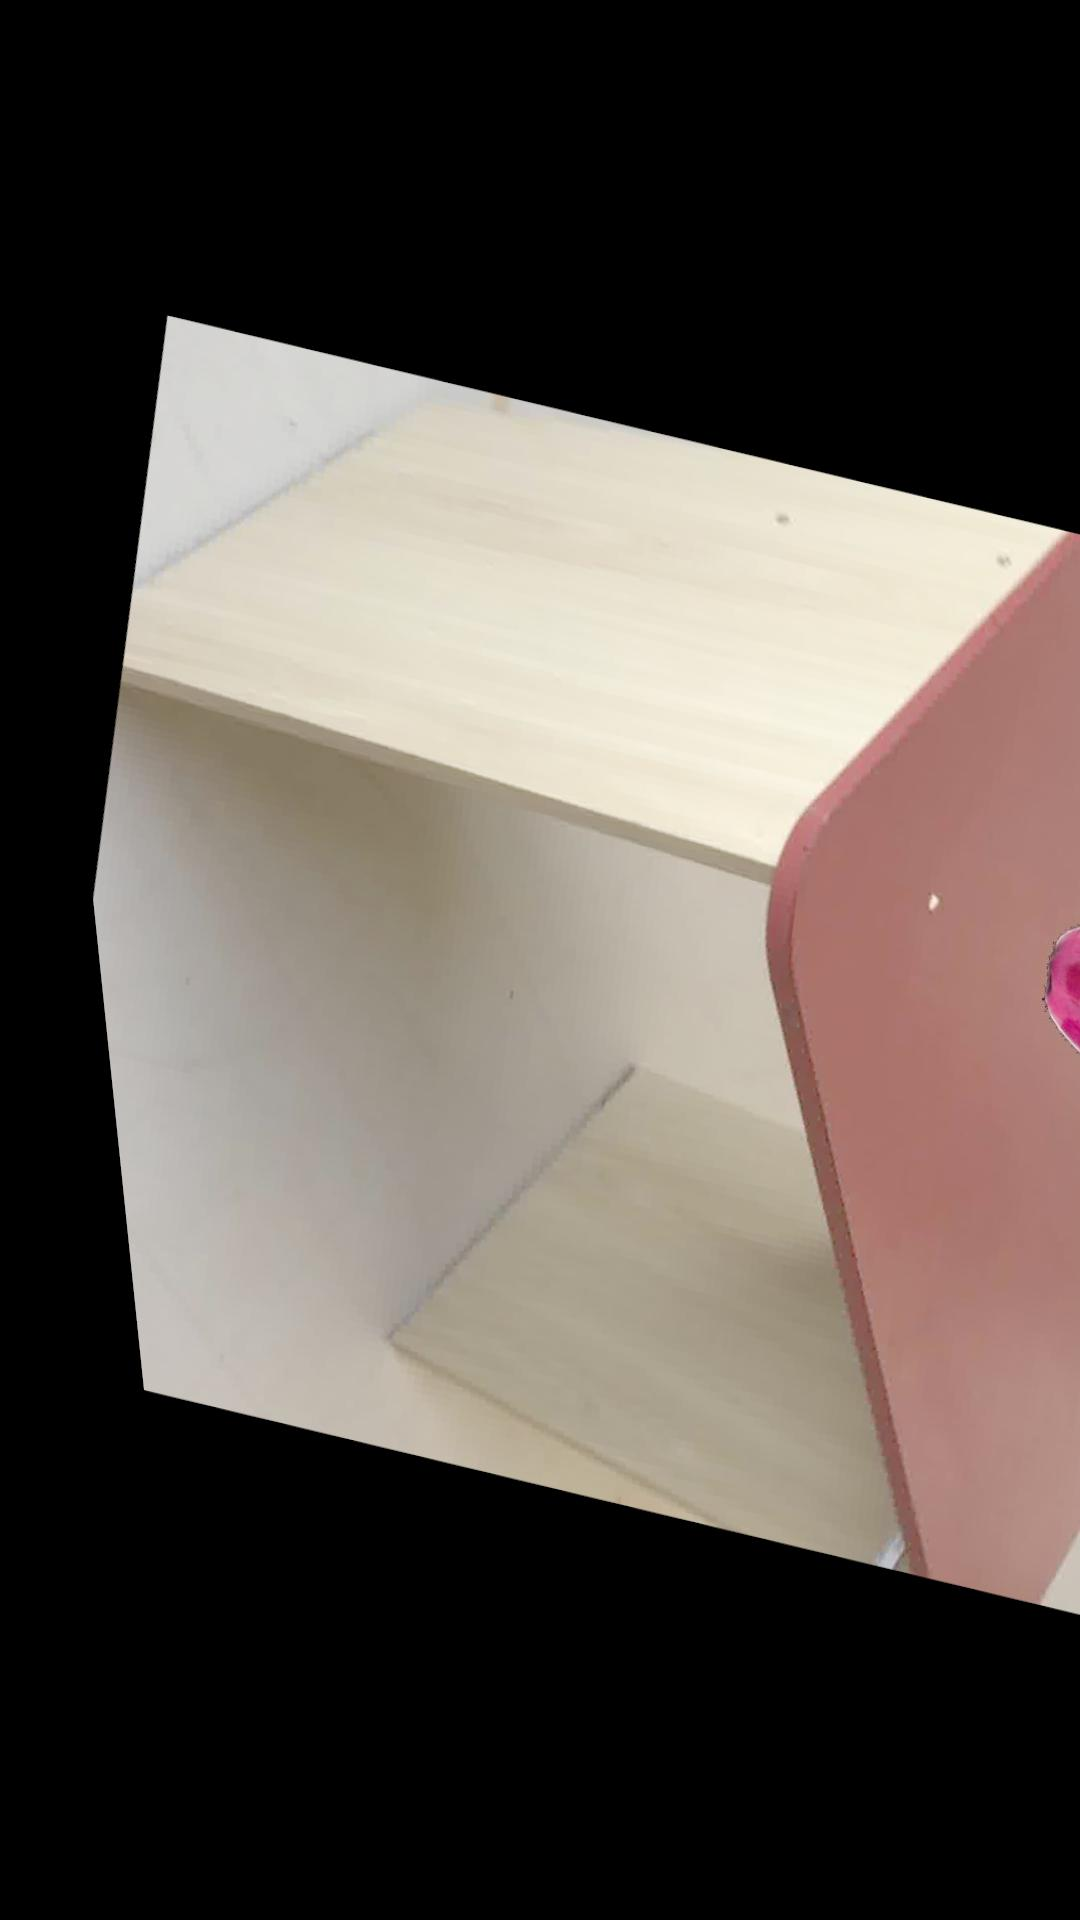apple: (1022, 918, 1080, 1069)
